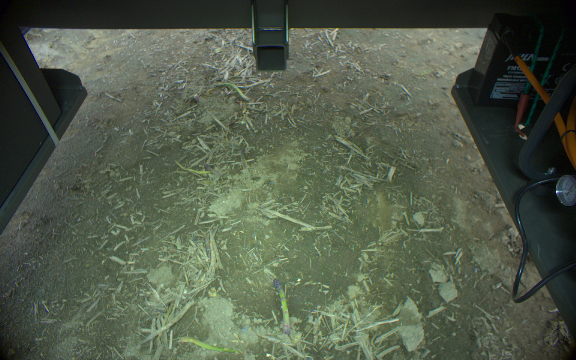aspa: (175, 333, 238, 357), (270, 278, 293, 339), (211, 81, 252, 103), (203, 164, 221, 180), (238, 147, 249, 168)
